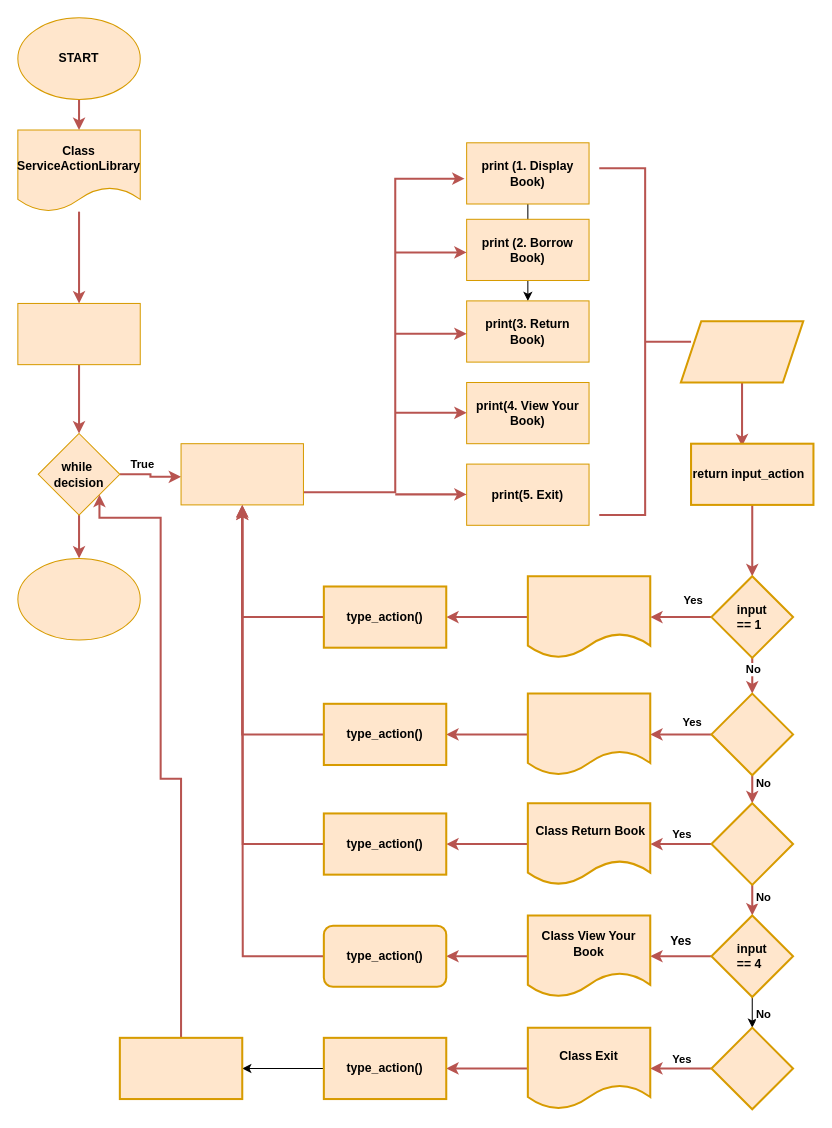
The diagram is 832 pixels wide and 1128 high, and some of its shapes have lost their labels. The centre of each missing label's shape, as x and y in pixels:
"Class BorrowBook" belongs at (588,734).
"Class DisplayBook" belongs at (588,616).
"decision == false" belongs at (180,1068).
"def selectionMenu()" belongs at (241,474).
"def start()" belongs at (78,333).
"END" belongs at (78,598).
"input == 2" belongs at (752,734).
"input == 3" belongs at (752,843).
"input == 5" belongs at (752,1068).
"input_action( select an option)" belongs at (741,351).
